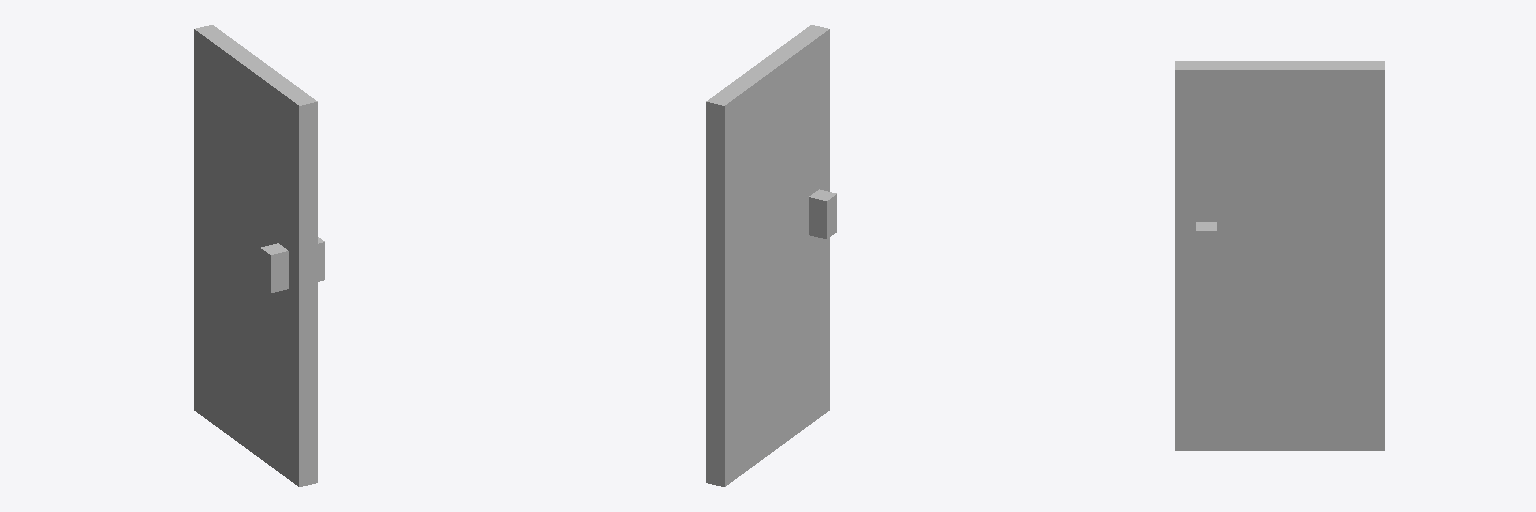
File: door.obj
3 views of the same model, side by side, from view 1: azimuth 30°, elevation 25°; view 2: azimuth 150°, elevation 25°; view 3: azimuth 270°, elevation 25° (orthographic).
Parts seen in each view (by area): view 1: object 1; view 2: object 1; view 3: object 1.
Part boxes in pixels (left/top/right/bottom): object 1: left=194, top=25, right=324, bottom=486; object 1: left=706, top=25, right=836, bottom=486; object 1: left=1175, top=61, right=1384, bottom=450.
Size of the model in its own units: 0.3 by 2 by 1.